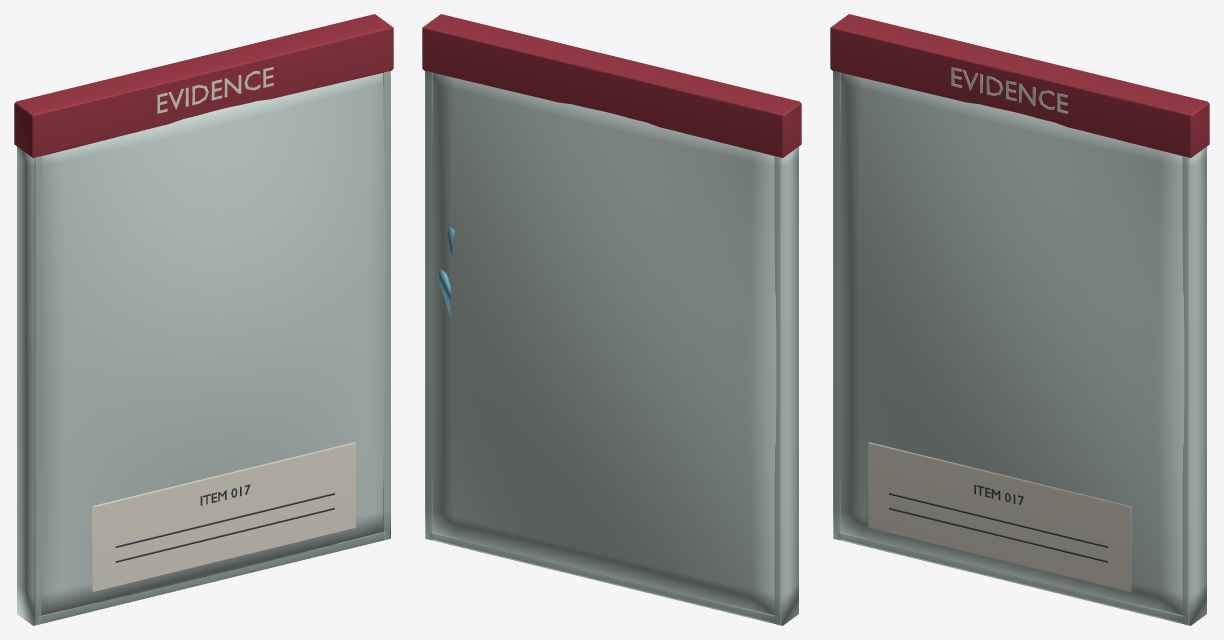
File: P015_evidence_bag_rebuilt.glb
3 renders of one model, left to right at view 1: azimuth 30°, elevation 25°; view 2: azimuth 150°, elevation 25°; view 3: azimuth 330°, elevation 25°, orthographic.
Visible parts, largest first — view 1: Evidence_pouch_frosted_clear_polyethylene, Evidence_white_documentation_label, Evidence_tamper_seal_burgundy, Evidence_pouch_heat-welded_seam, Evidence_charcoal_print; view 2: Evidence_pouch_frosted_clear_polyethylene, Evidence_tamper_seal_burgundy, Evidence_pouch_heat-welded_seam; view 3: Evidence_pouch_frosted_clear_polyethylene, Evidence_white_documentation_label, Evidence_tamper_seal_burgundy, Evidence_pouch_heat-welded_seam, Evidence_charcoal_print.
Part boxes in pixels (box(x1,y1,x2,y2)): Evidence_pouch_frosted_clear_polyethylene: box(17, 71, 390, 625); Evidence_white_documentation_label: box(92, 67, 355, 591); Evidence_tamper_seal_burgundy: box(14, 14, 393, 157); Evidence_pouch_heat-welded_seam: box(34, 71, 389, 625); Evidence_charcoal_print: box(115, 484, 334, 562); Evidence_pouch_frosted_clear_polyethylene: box(425, 71, 798, 625); Evidence_tamper_seal_burgundy: box(422, 14, 801, 157); Evidence_pouch_heat-welded_seam: box(426, 71, 781, 625); Evidence_pouch_frosted_clear_polyethylene: box(833, 71, 1206, 625); Evidence_white_documentation_label: box(868, 67, 1131, 591); Evidence_tamper_seal_burgundy: box(830, 14, 1209, 157); Evidence_pouch_heat-welded_seam: box(834, 71, 1189, 625); Evidence_charcoal_print: box(889, 484, 1108, 562).
Bounding box in the file's own units: 0.154 × 0.208 × 0.032.
